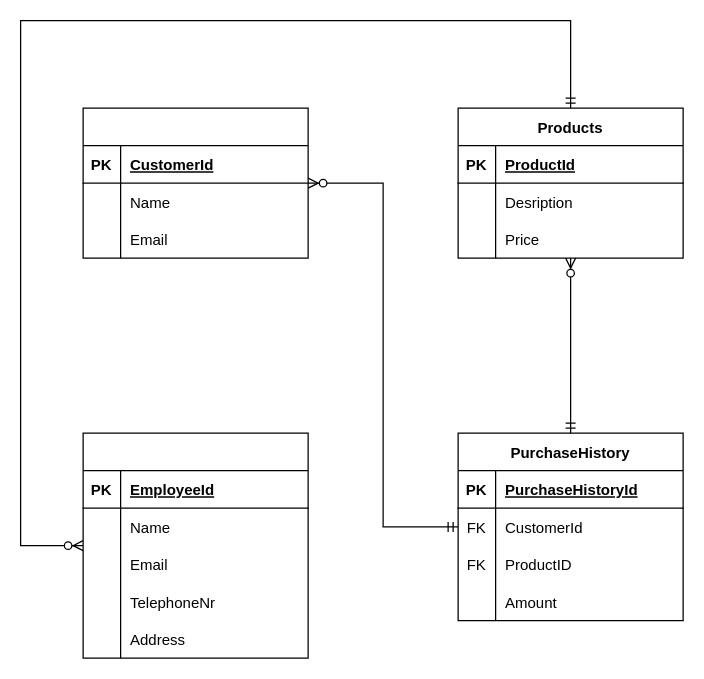
The diagram is 704 pixels wide and 679 high, and some of its shapes have lost their labels. Each missing label, with the box of its shape:
Customers: (82, 107, 308, 258)
Employees: (82, 432, 308, 658)
